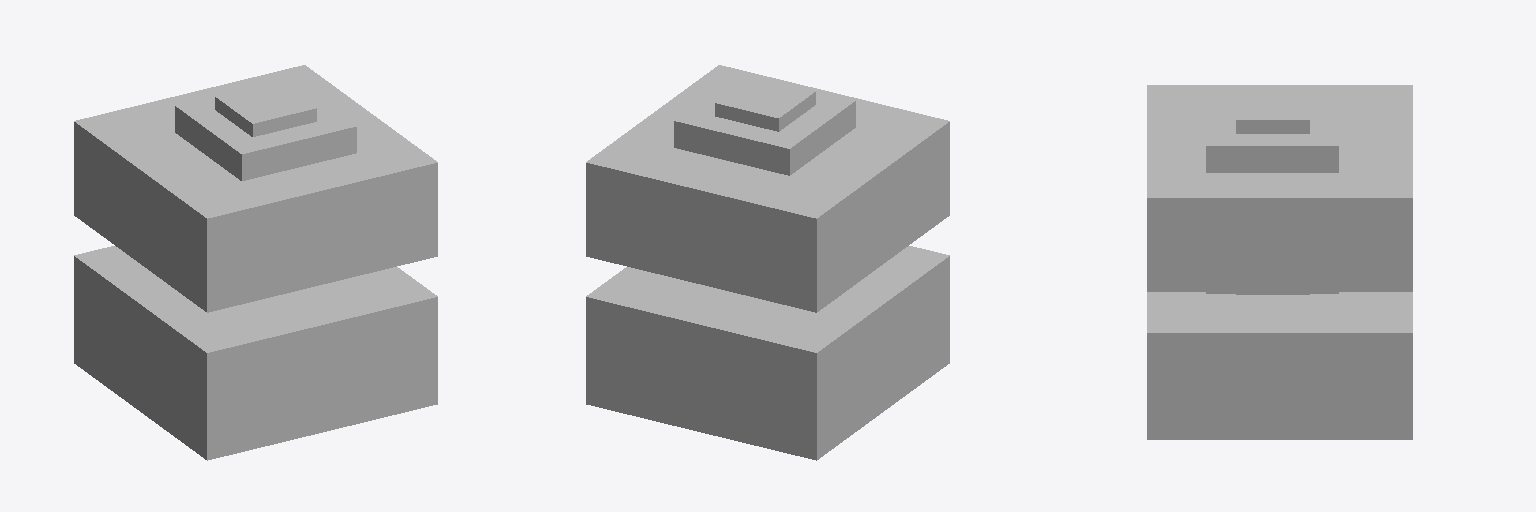
File: Tree.obj
3 renders of one model, left to right at view 1: azimuth 30°, elevation 25°; view 2: azimuth 150°, elevation 25°; view 3: azimuth 270°, elevation 25°, orthographic.
Parts seen in each view (by area): view 1: Tree; view 2: Tree; view 3: Tree.
Boxes of the visible parts, x1=… form: Tree: x1=74, y1=65, x2=437, y2=460; Tree: x1=586, y1=65, x2=949, y2=460; Tree: x1=1147, y1=85, x2=1412, y2=439.
Size of the model in its own units: 18 by 23 by 18.